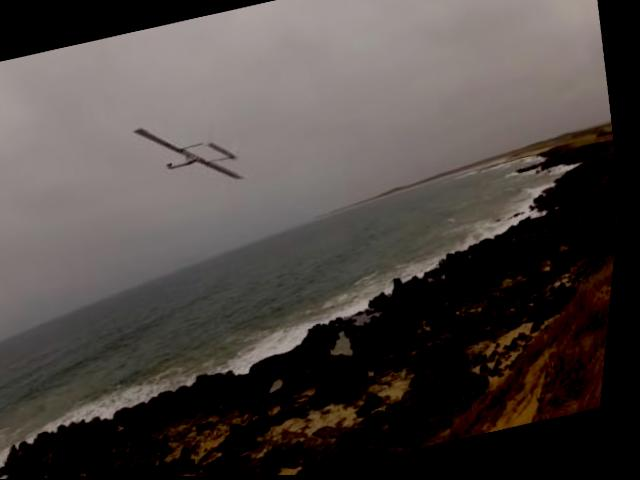uav: (125, 98, 262, 212)
